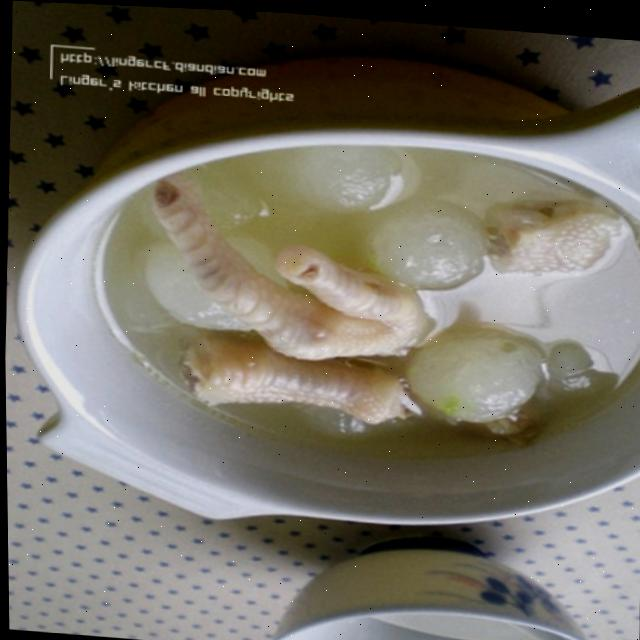汤锅炖物: (3, 50, 640, 564)
